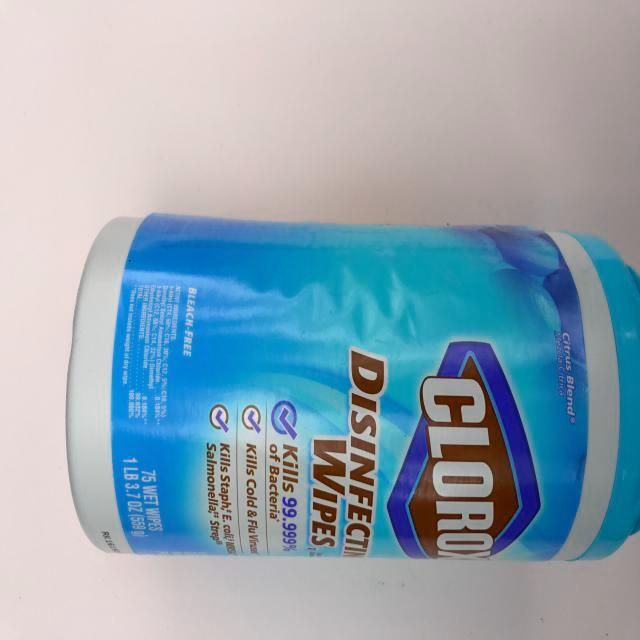plastic: (55, 184, 640, 600)
